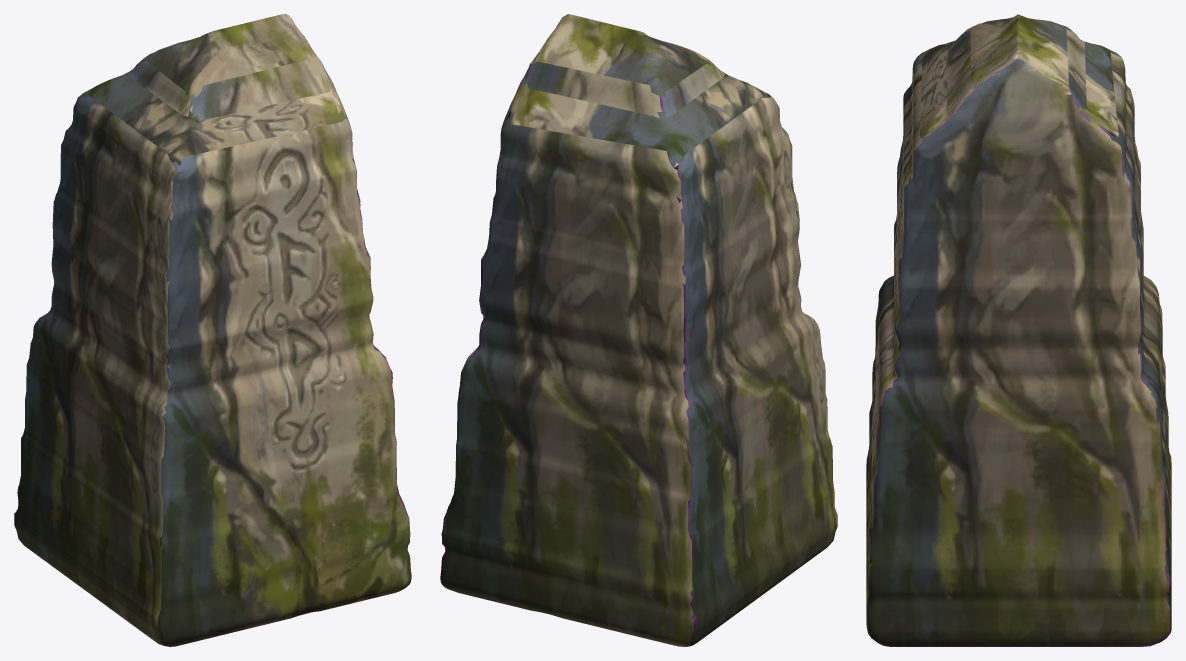
Rendered from stone_a_tall.glb.
3 views of the same model, side by side, from view 1: azimuth 30°, elevation 25°; view 2: azimuth 150°, elevation 25°; view 3: azimuth 270°, elevation 25° (orthographic). The views are drawn at different scales.
Parts seen in each view (by area): view 1: stone_a_tall; view 2: stone_a_tall; view 3: stone_a_tall.
Part boxes in pixels (x1=…): stone_a_tall: x1=14, y1=14, x2=411, y2=646; stone_a_tall: x1=440, y1=14, x2=837, y2=646; stone_a_tall: x1=866, y1=14, x2=1171, y2=646.
Bounding box in the file's own units: 2.05 × 4.15 × 2.01.
1 material, 1 textured.
